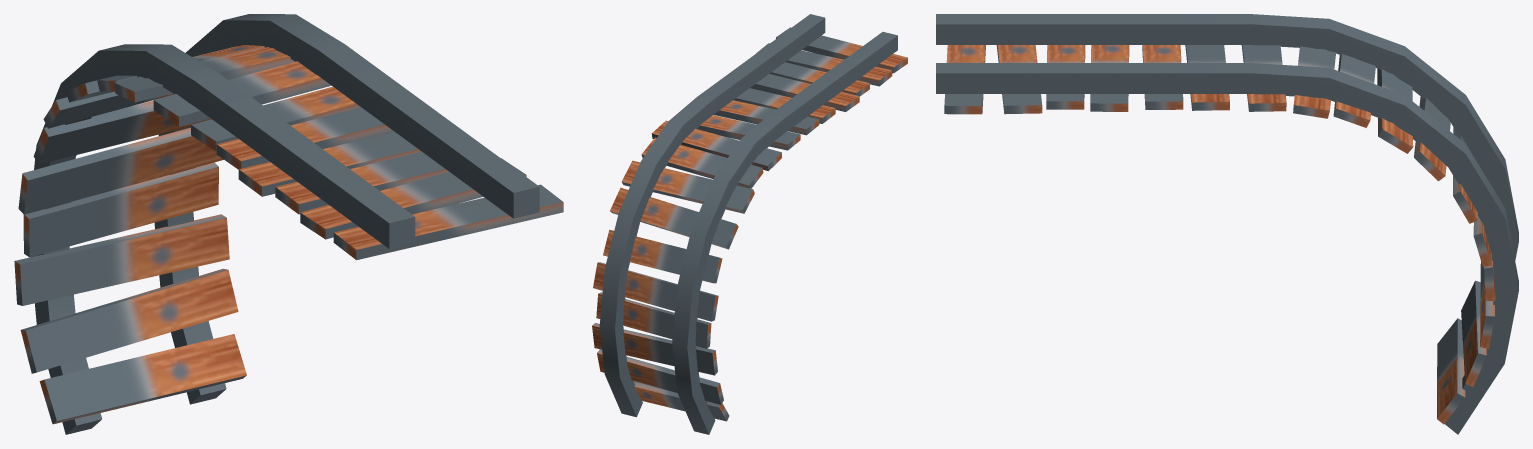
File: road_down.fbx
3 renders of one model, left to right at view 1: azimuth 30°, elevation 25°; view 2: azimuth 150°, elevation 25°; view 3: azimuth 270°, elevation 25°, orthographic. The views are drawn at different scales.
Parts seen in each view (by area): view 1: down; view 2: down; view 3: down.
Part boxes in pixels (box(x1,y1,x2,y2)): down: box(14, 14, 563, 434); down: box(592, 14, 907, 434); down: box(936, 14, 1518, 434).
Size of the model in its own units: 12.59 by 25.56 by 37.31.
